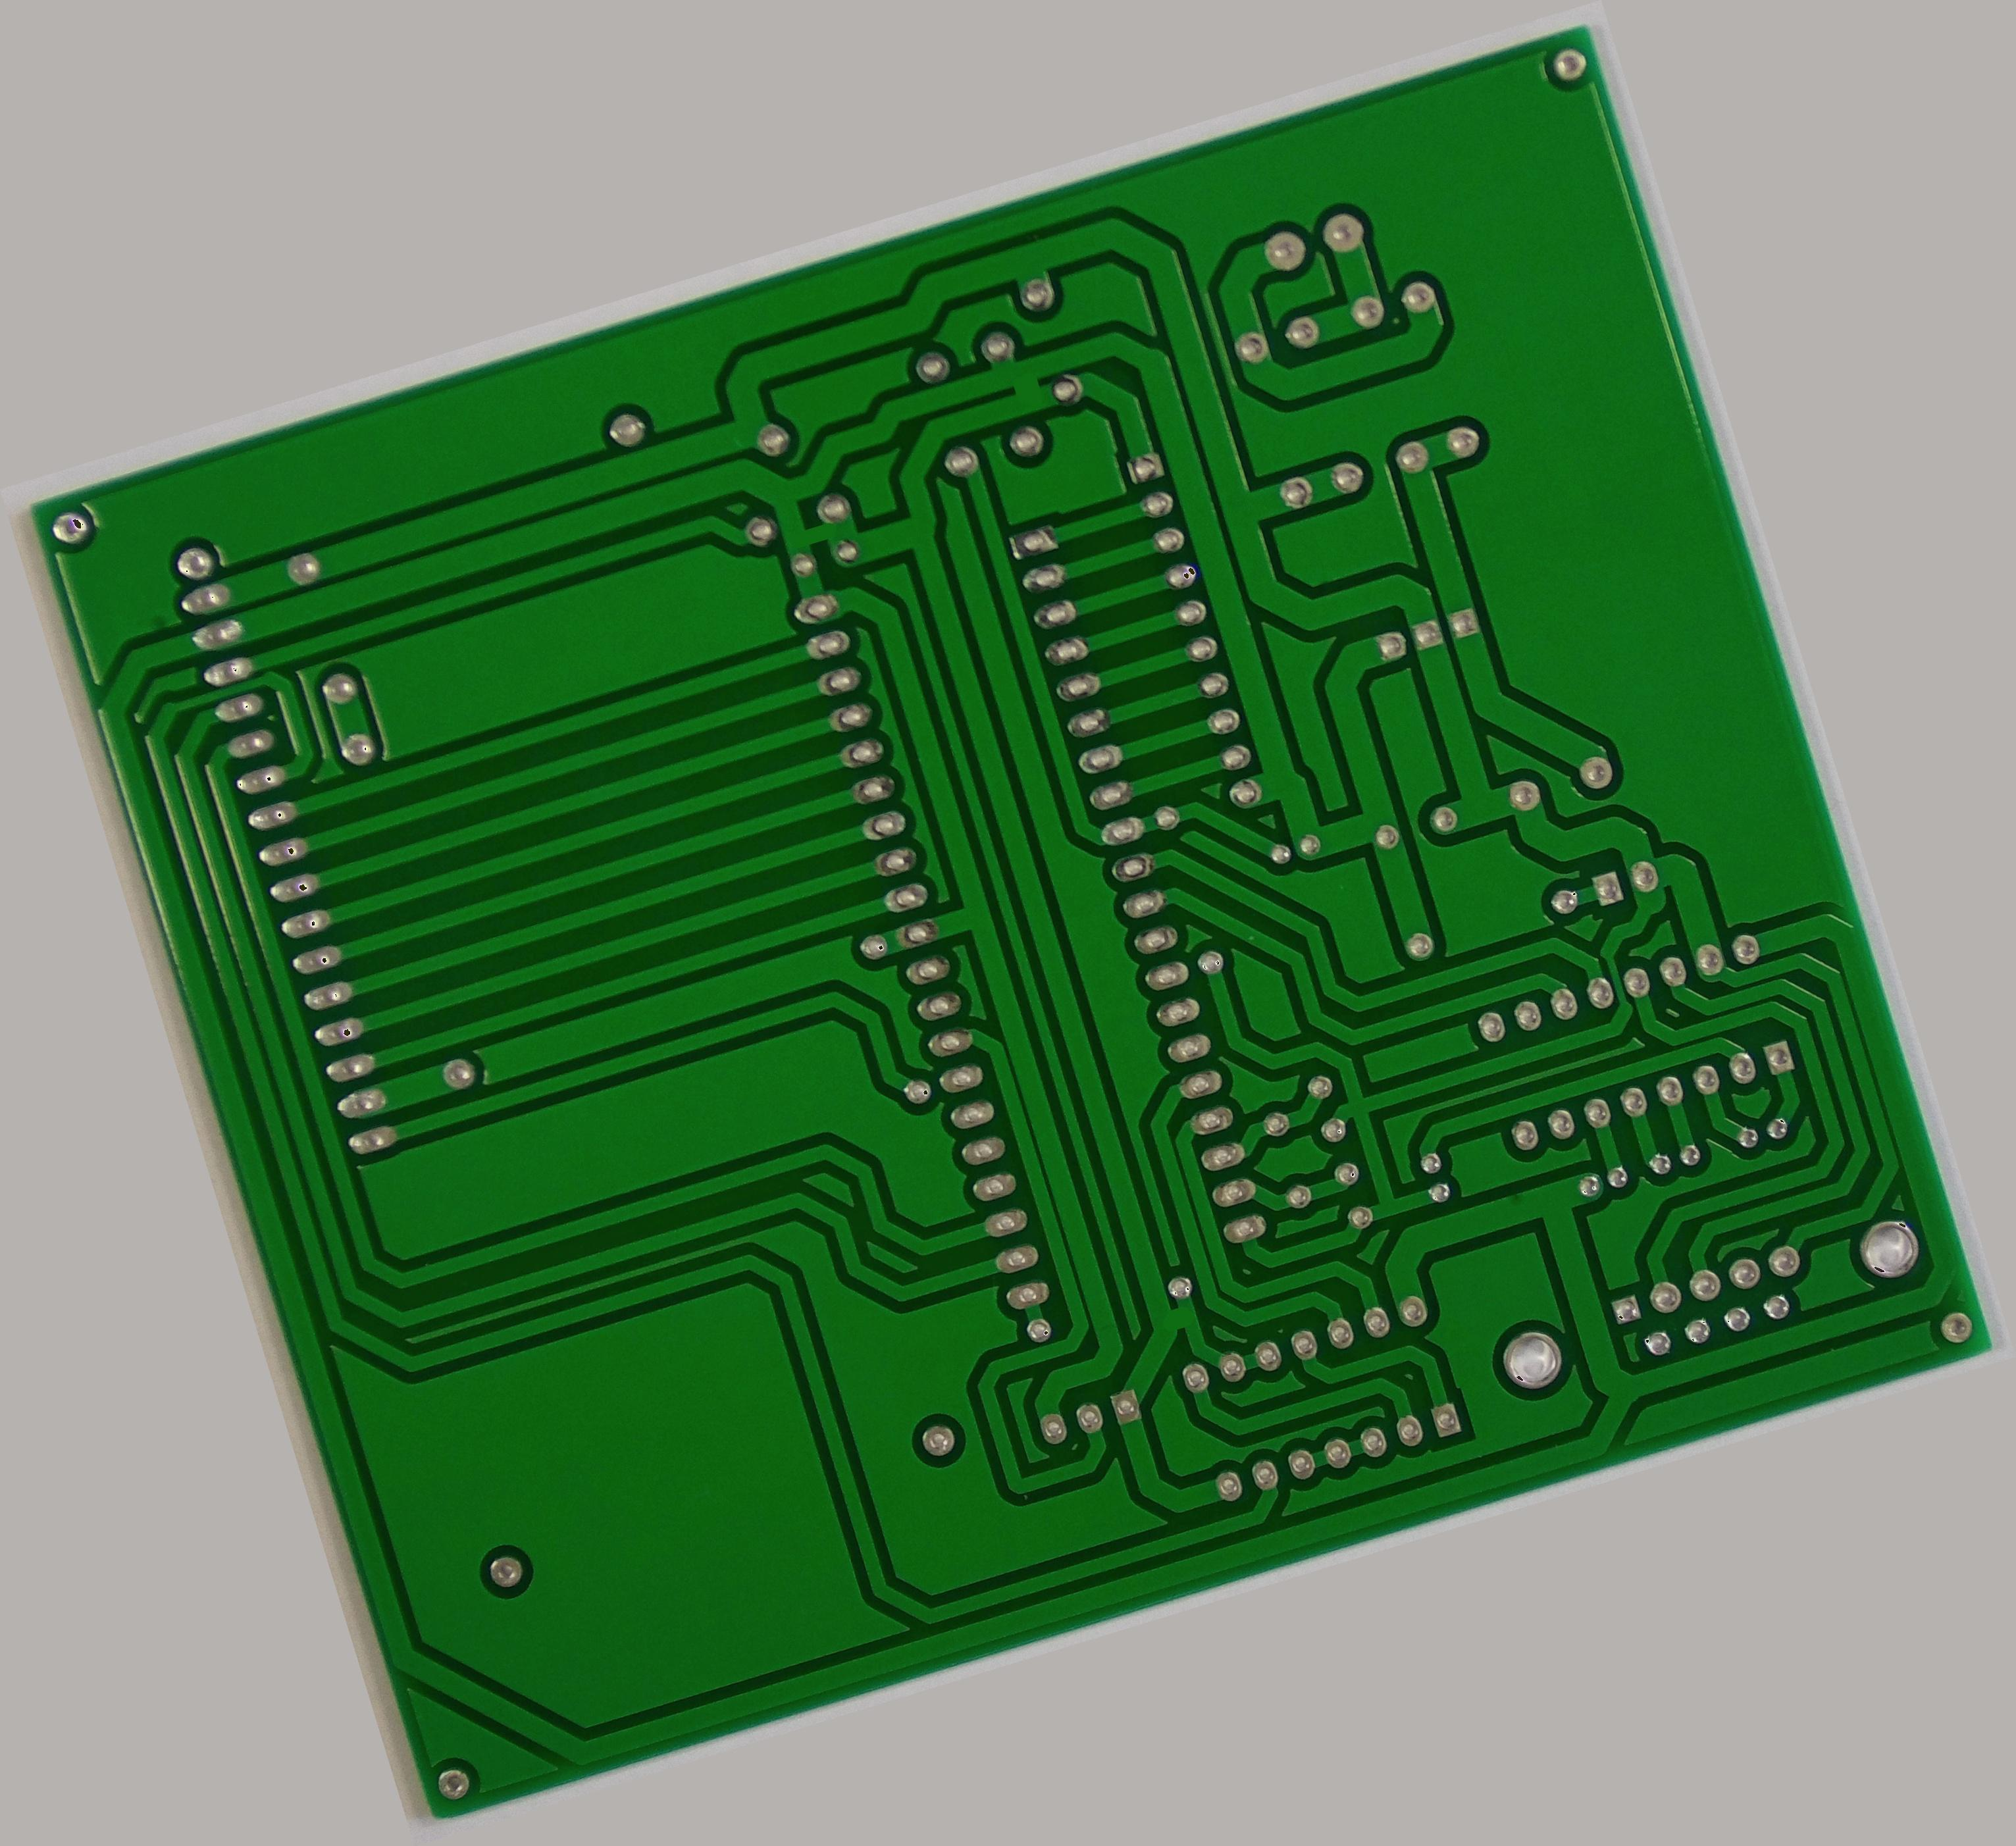short: (780, 502, 852, 567), (994, 355, 1061, 420)
